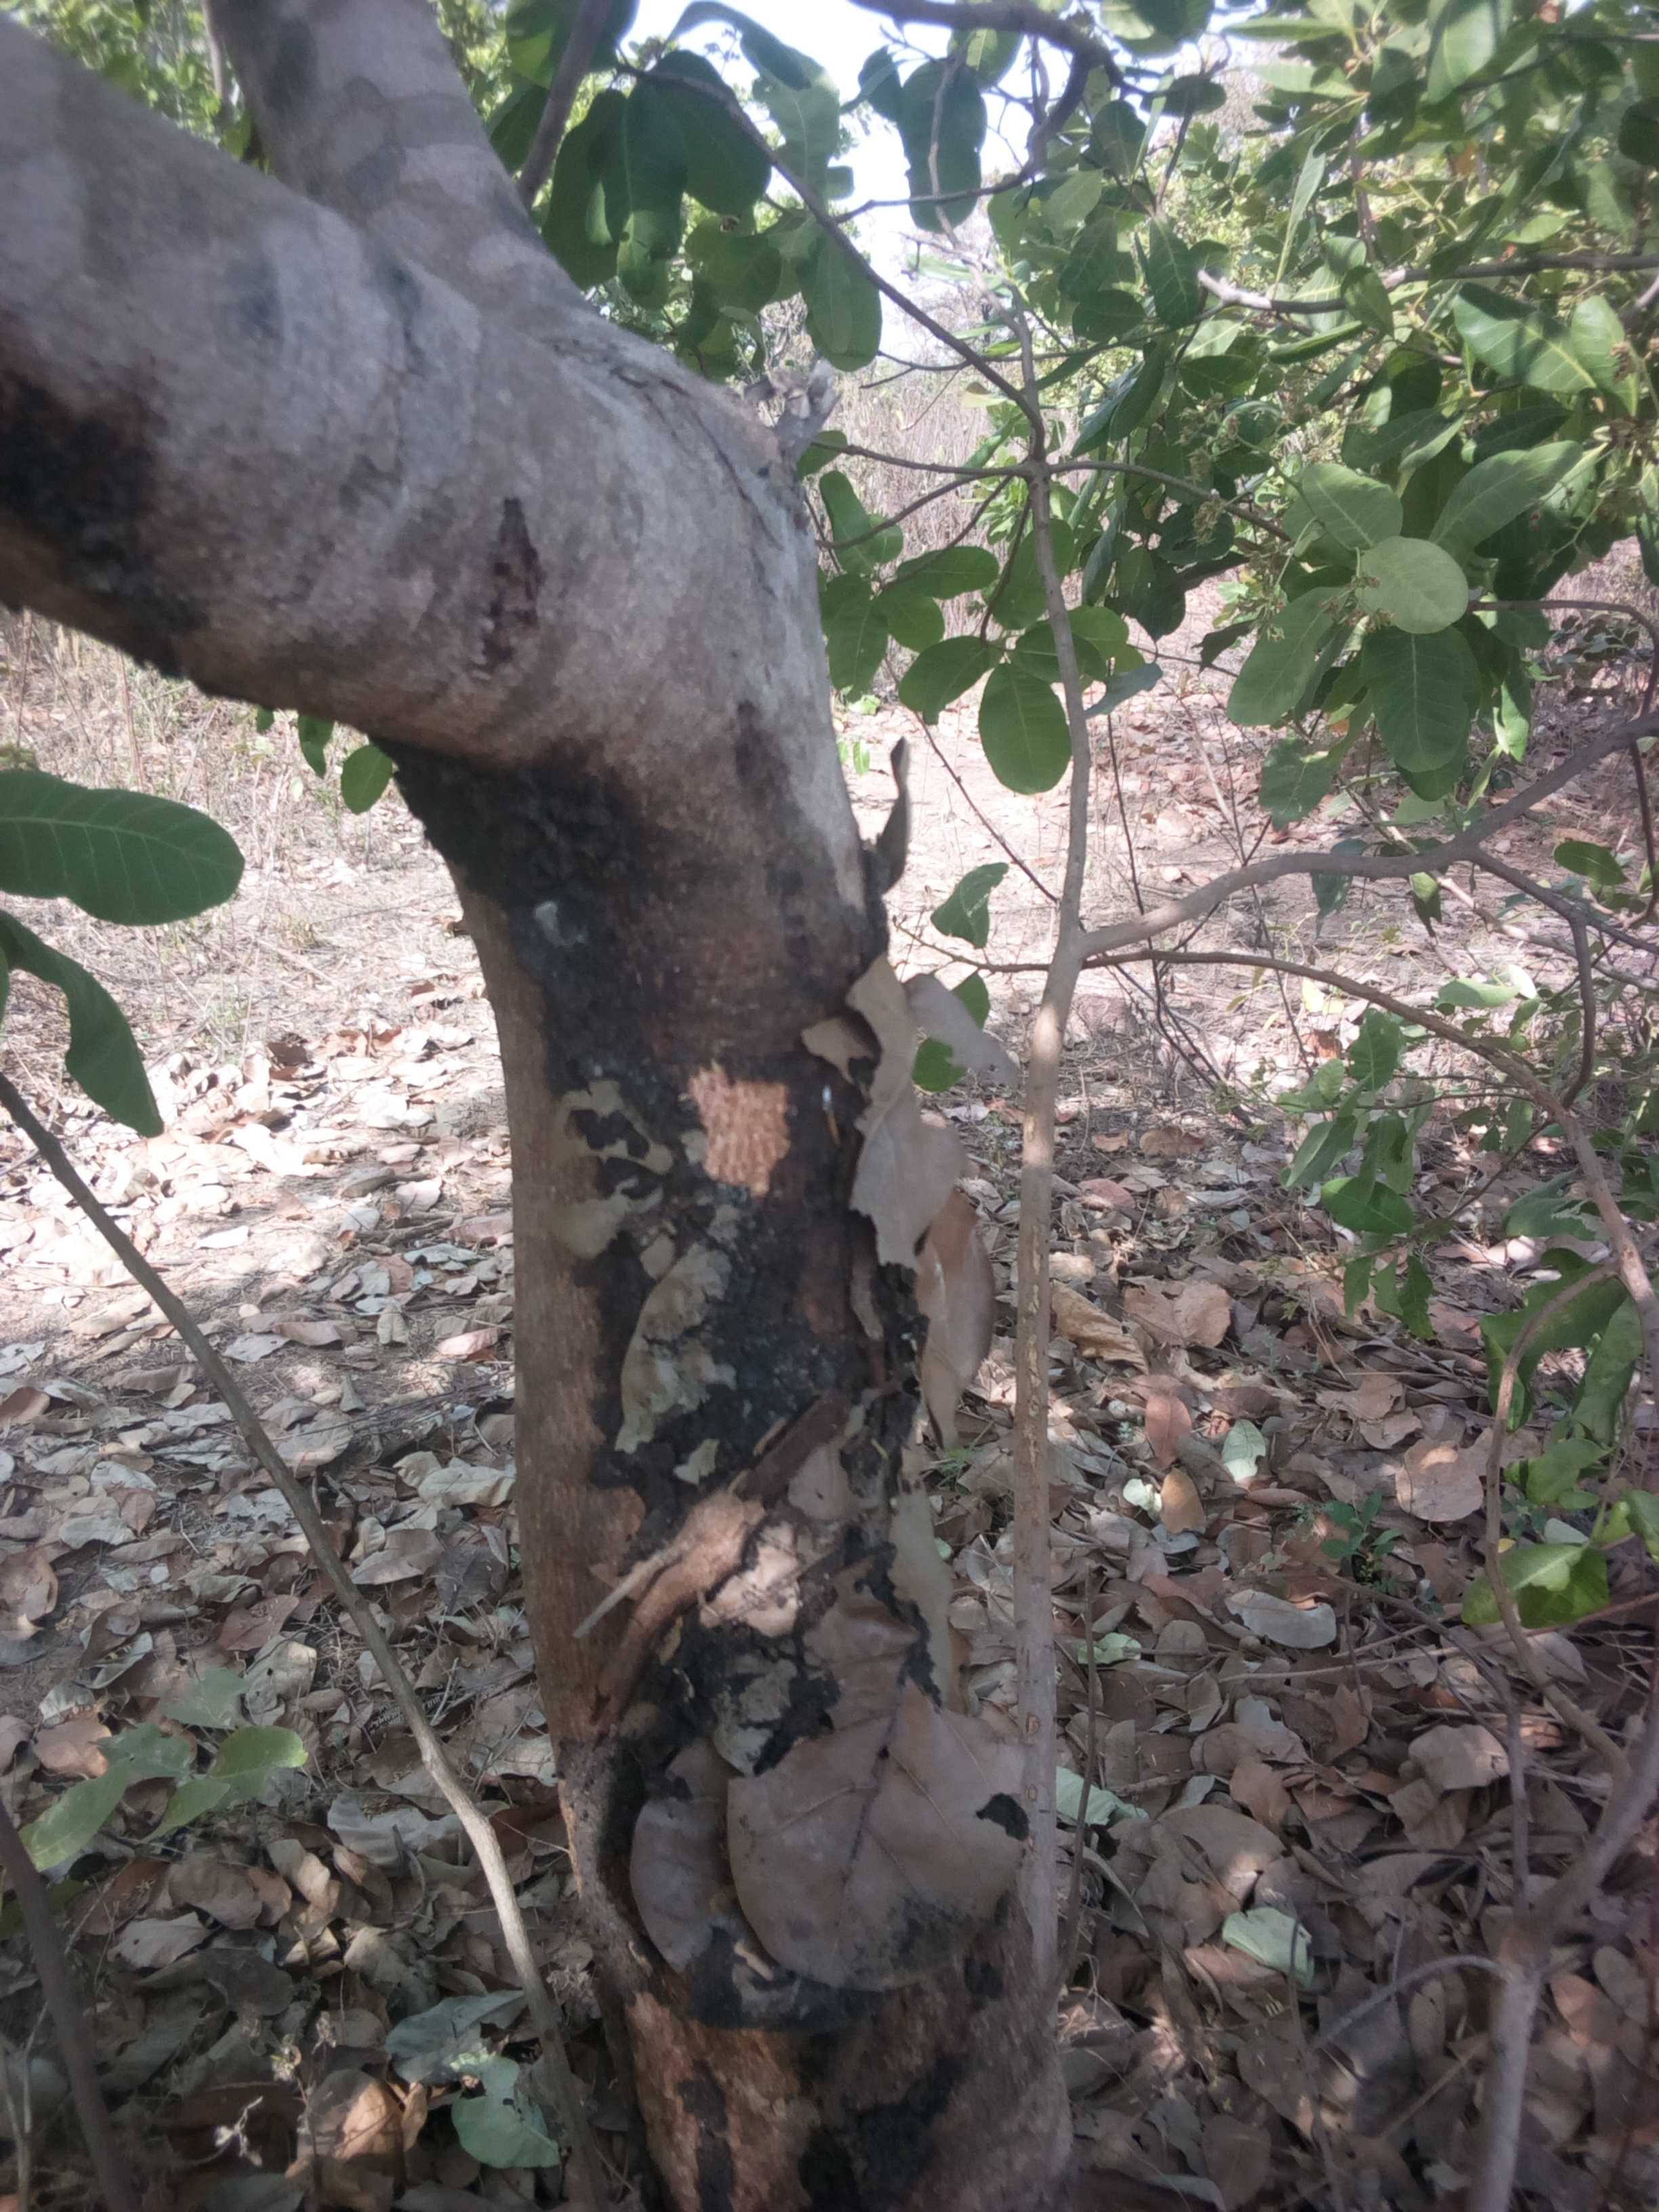Termites: (423, 737, 650, 951)
